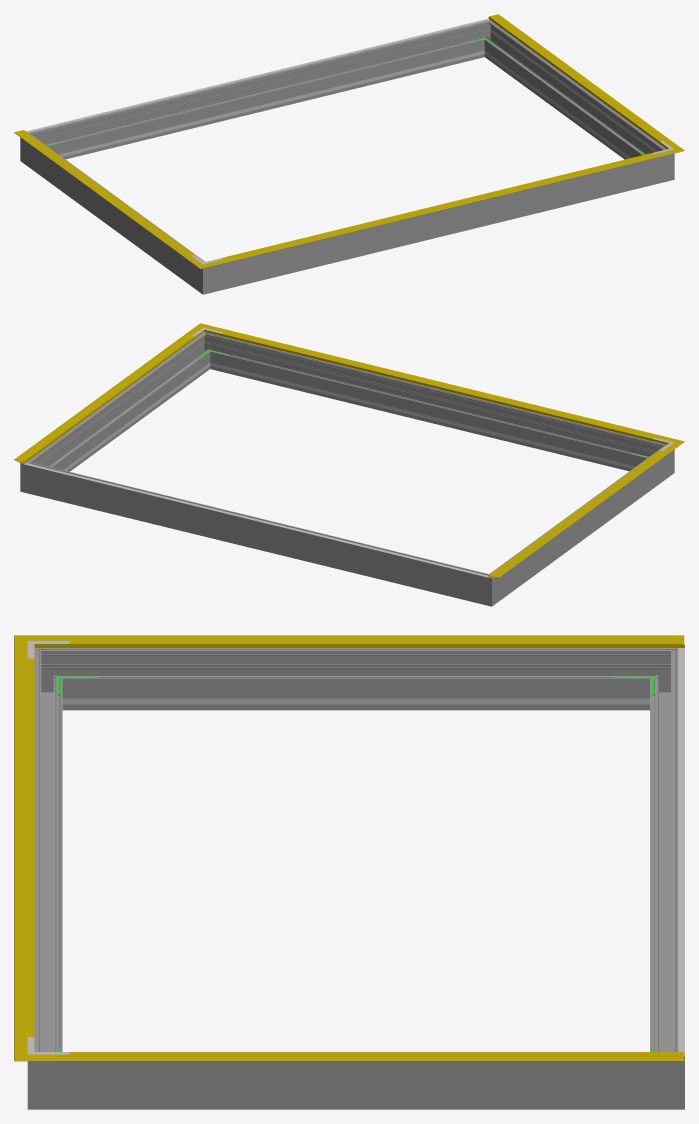
3 views of the same model, one above another, from view 1: azimuth 30°, elevation 25°; view 2: azimuth 150°, elevation 25°; view 3: azimuth 270°, elevation 25° (orthographic). The views are drawn at different scales.
Visible parts, largest first — view 1: 3DGeom-276, 3DGeom-298, 3DGeom-297, 3DGeom-268, 3DGeom-141, 3DGeom-145, 3DGeom-244, 3DGeom-147, 3DGeom-220, 3DGeom-158, 3DGeom-270, 3DGeom-152 (+4 smaller); view 2: 3DGeom-298, 3DGeom-276, 3DGeom-297, 3DGeom-268, 3DGeom-141, 3DGeom-145, 3DGeom-239, 3DGeom-147, 3DGeom-220, 3DGeom-158, 3DGeom-278, 3DGeom-284 (+4 smaller); view 3: 3DGeom-268, 3DGeom-297, 3DGeom-298, 3DGeom-276, 3DGeom-147, 3DGeom-141, 3DGeom-145, 3DGeom-232, 3DGeom-158, 3DGeom-220, 3DGeom-290, 3DGeom-284 (+4 smaller).
Boxes of the visible parts, <box> form: 3DGeom-276: <box>42,24,481,159</box>; 3DGeom-298: <box>223,158,654,289</box>; 3DGeom-297: <box>486,27,659,159</box>; 3DGeom-268: <box>32,140,197,285</box>; 3DGeom-141: <box>217,152,664,263</box>; 3DGeom-145: <box>488,14,672,145</box>; 3DGeom-244: <box>66,55,465,155</box>; 3DGeom-147: <box>14,131,194,260</box>; 3DGeom-220: <box>26,18,489,132</box>; 3DGeom-158: <box>222,153,653,259</box>; 3DGeom-270: <box>191,256,223,294</box>; 3DGeom-152: <box>489,16,662,141</box>; 3DGeom-298: <box>213,336,652,471</box>; 3DGeom-276: <box>40,465,475,601</box>; 3DGeom-297: <box>35,339,208,471</box>; 3DGeom-268: <box>497,451,662,597</box>; 3DGeom-141: <box>214,328,664,442</box>; 3DGeom-145: <box>14,332,198,463</box>; 3DGeom-239: <box>229,367,628,467</box>; 3DGeom-147: <box>488,448,672,578</box>; 3DGeom-220: <box>23,463,488,577</box>; 3DGeom-158: <box>222,332,653,438</box>; 3DGeom-278: <box>471,568,503,606</box>; 3DGeom-284: <box>20,456,44,496</box>; 3DGeom-268: <box>69,648,642,710</box>; 3DGeom-297: <box>69,1061,642,1109</box>; 3DGeom-298: <box>34,662,62,1051</box>; 3DGeom-276: <box>650,662,678,1051</box>; 3DGeom-147: <box>56,635,684,647</box>; 3DGeom-141: <box>14,653,34,1042</box>; 3DGeom-145: <box>56,1054,684,1061</box>; 3DGeom-232: <box>103,698,609,704</box>; 3DGeom-158: <box>27,658,34,1036</box>; 3DGeom-220: <box>678,647,684,1056</box>; 3DGeom-290: <box>27,1041,69,1109</box>; 3DGeom-284: <box>643,1041,684,1109</box>.
Bounding box in the file's own units: 3.66 × 0.2195 × 2.44.
